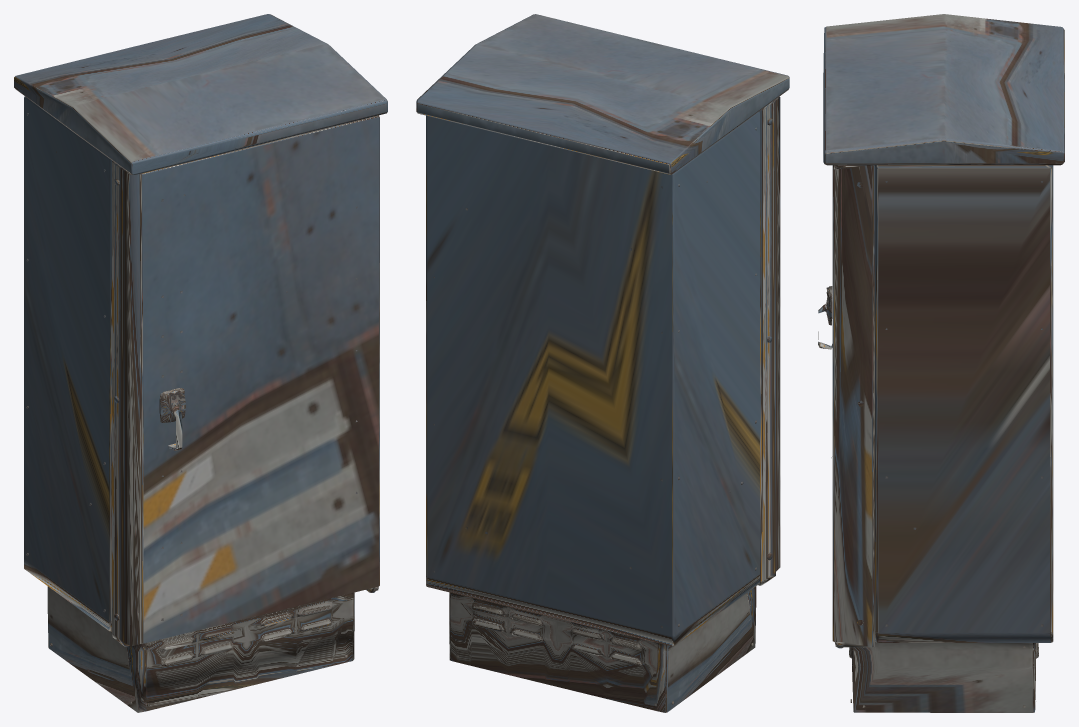
The model's file is utility_box_01.glb.
The picture shows the model from 3 angles, left to right: view 1: azimuth 30°, elevation 25°; view 2: azimuth 150°, elevation 25°; view 3: azimuth 270°, elevation 25°; orthographic projection.
Parts seen in each view (by area): view 1: utility_box_01; view 2: utility_box_01; view 3: utility_box_01.
Boxes of the visible parts, x1,y1,x2,y2 form: utility_box_01: (14, 14, 387, 712); utility_box_01: (416, 14, 789, 712); utility_box_01: (818, 14, 1064, 712).
Bounding box in the file's own units: 0.52 × 1.12 × 0.4288.
Materials: 1 (1 with a texture image).
